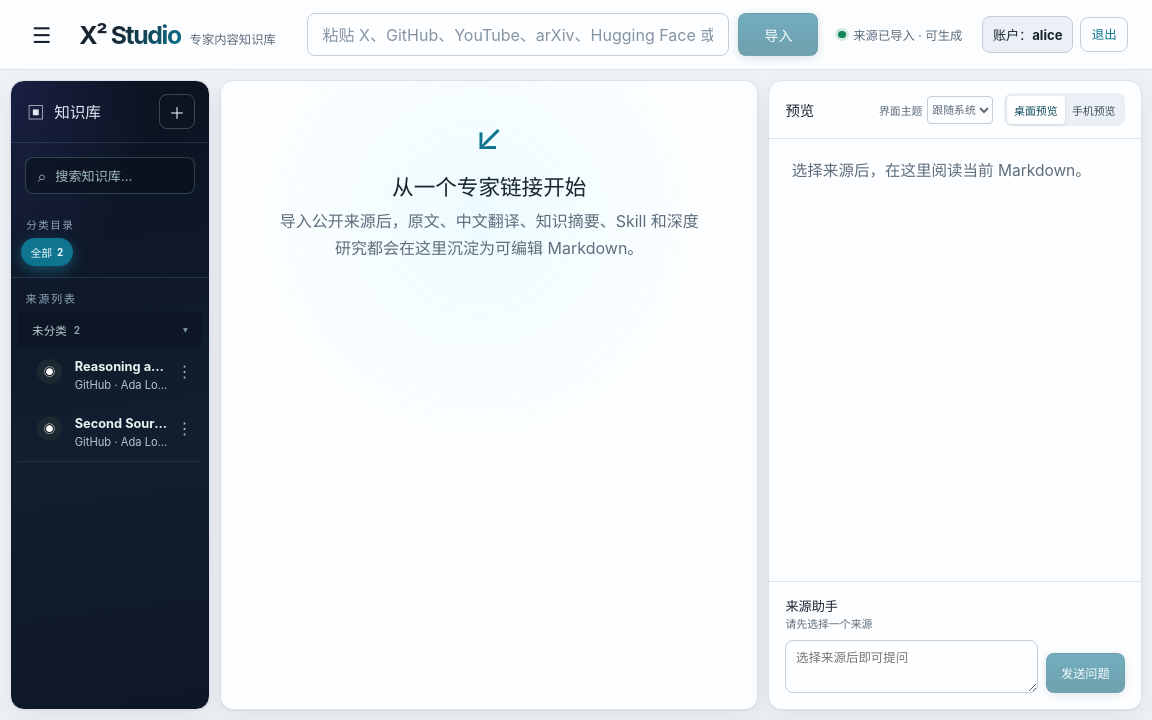
three-pane studio › keeps the newest source detail when a slower earlier selection resolves last
This screenshot has width=1152, height=720.
What coordinates should you click on to do the following:
click the button "◉ Reasoning at Scale GitHub · Ada Lovelace ⋮"
I would click on:
 (110, 375)
Its box is [18,346,202,404].
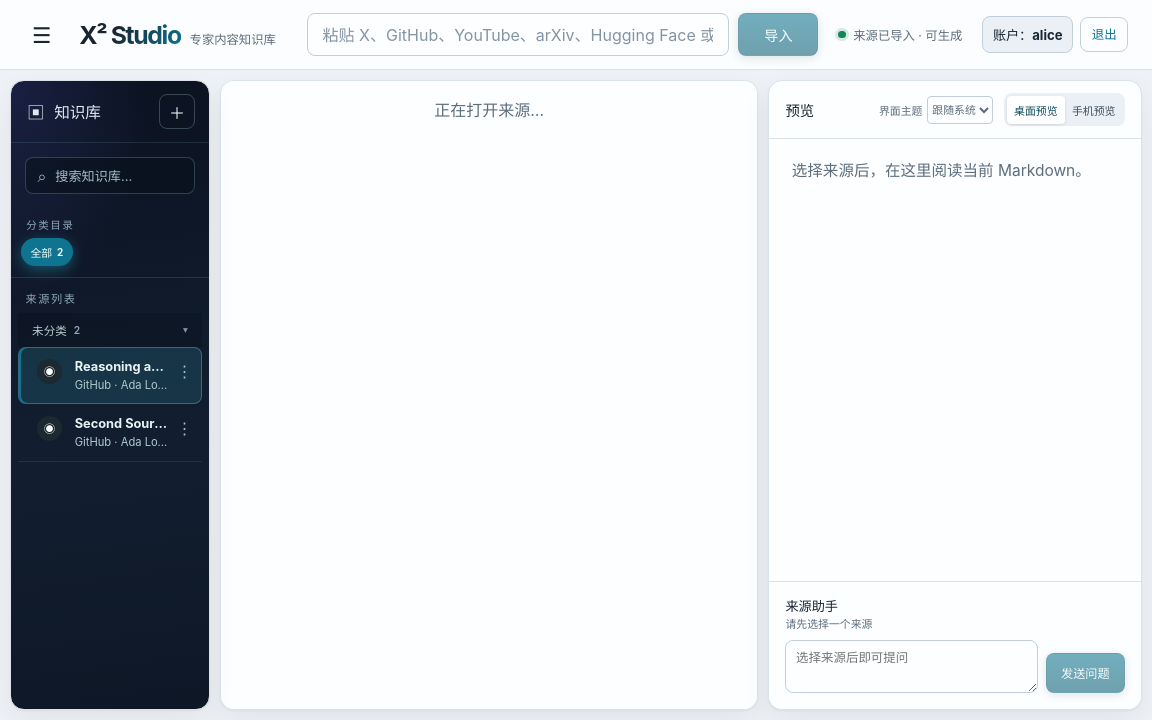
What coordinates should you click on to do the following:
click the button "◉ Second Source GitHub · Ada Lovelace ⋮"
I would click on:
 (110, 432)
Its box is [18,404,202,461].
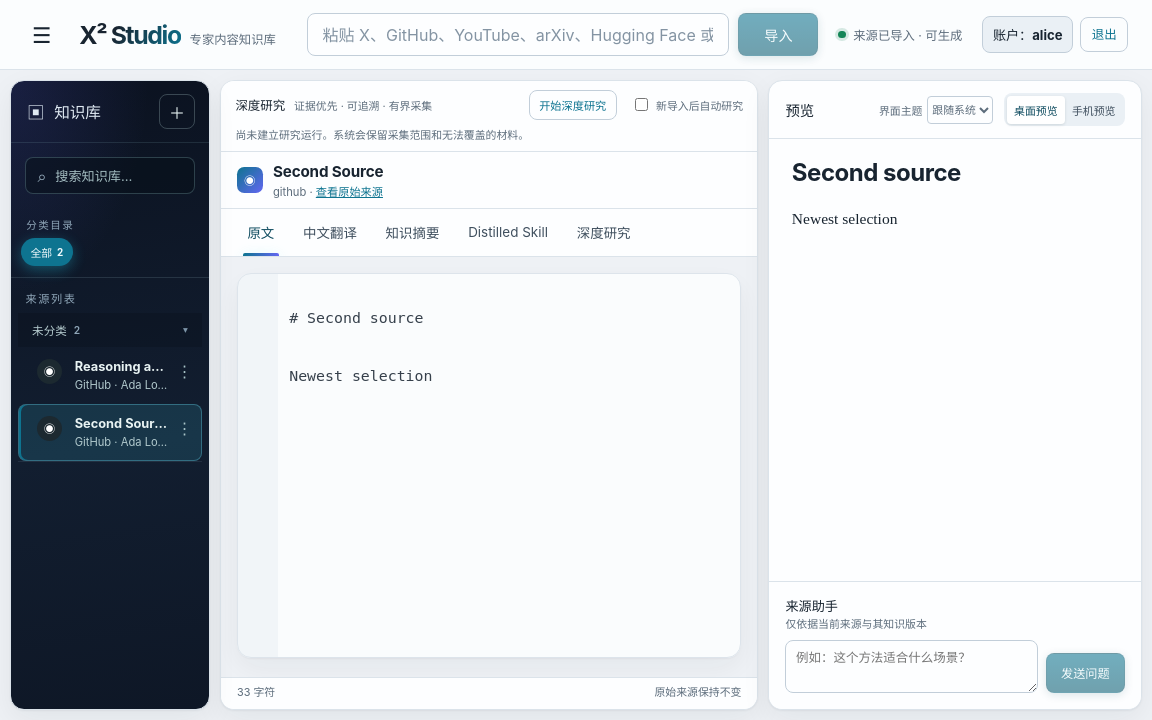
expect the heading "Second Source" is shown: met, box [273,162,383,181]
